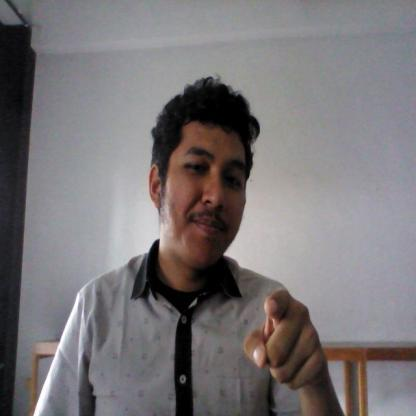Kamu: (227, 288, 342, 397)
